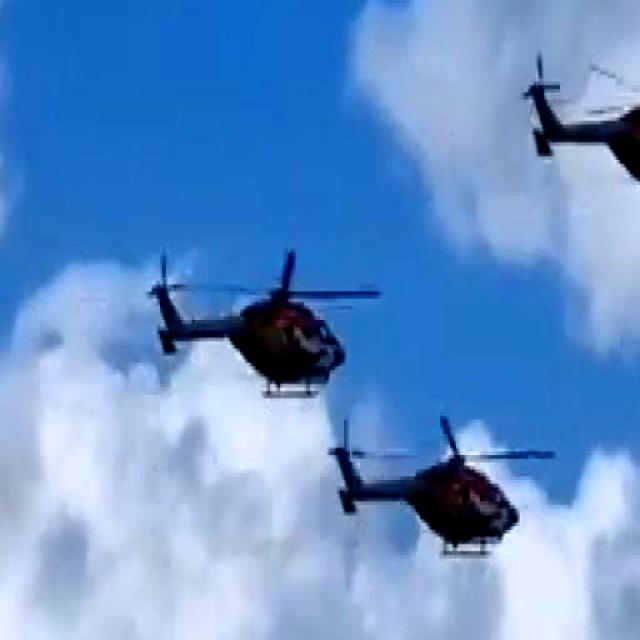drone: (138, 226, 364, 431), (312, 431, 572, 575), (514, 28, 640, 222)
